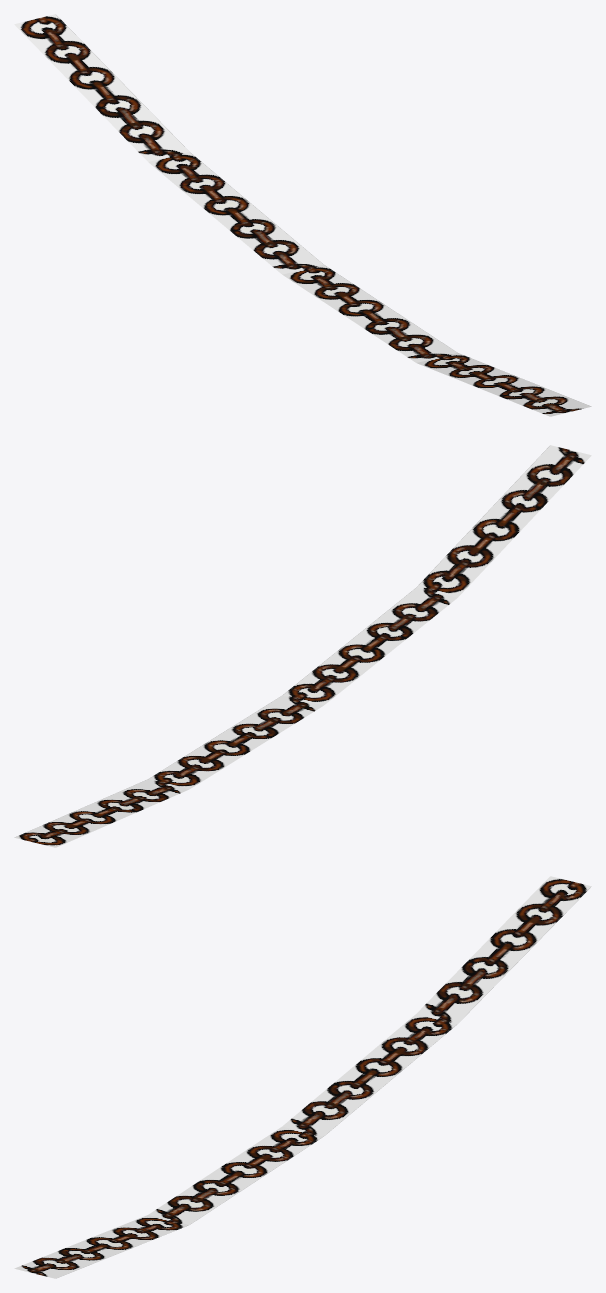
Rendered from Kette4_1813.glb.
3 views of the same model, one above another, from view 1: azimuth 30°, elevation 25°; view 2: azimuth 150°, elevation 25°; view 3: azimuth 330°, elevation 25° (orthographic).
Parts seen in each view (by area): view 1: pPlaneShape6; view 2: pPlaneShape6; view 3: pPlaneShape6.
Part boxes in pixels (<box>): pPlaneShape6: <box>14,14,591,416</box>; pPlaneShape6: <box>14,445,591,847</box>; pPlaneShape6: <box>14,876,591,1278</box>.
Size of the model in its own units: 0.0449 by 0.0557 by 1.
Materials: 1 (1 with a texture image).
